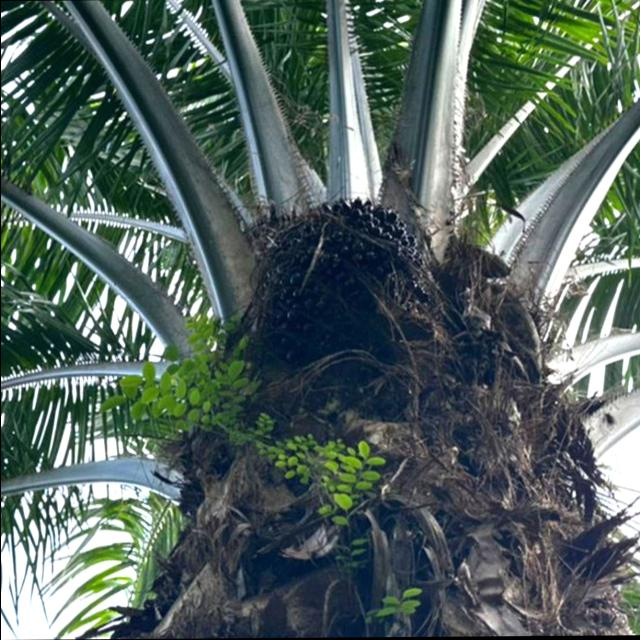almost: (255, 191, 426, 374)
